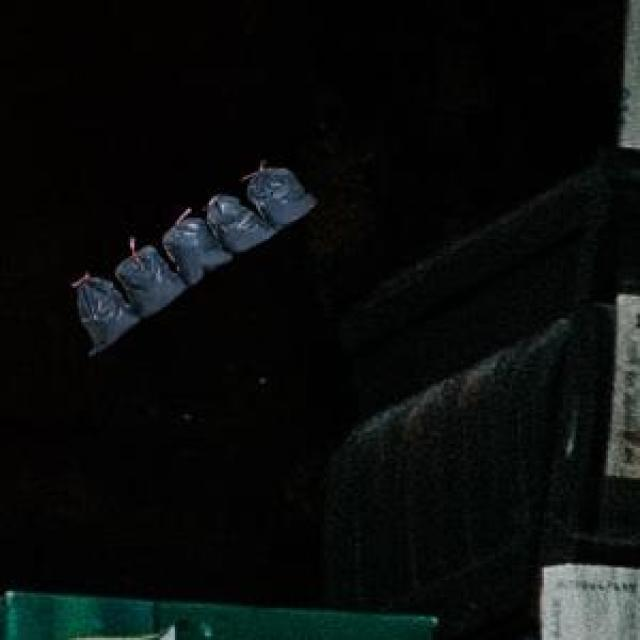waste: (71, 165, 316, 356)
